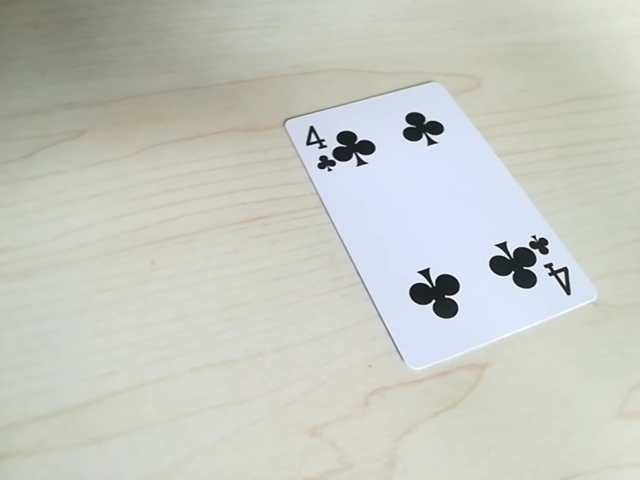mh 4: (300, 120, 359, 176), (398, 104, 446, 151)
